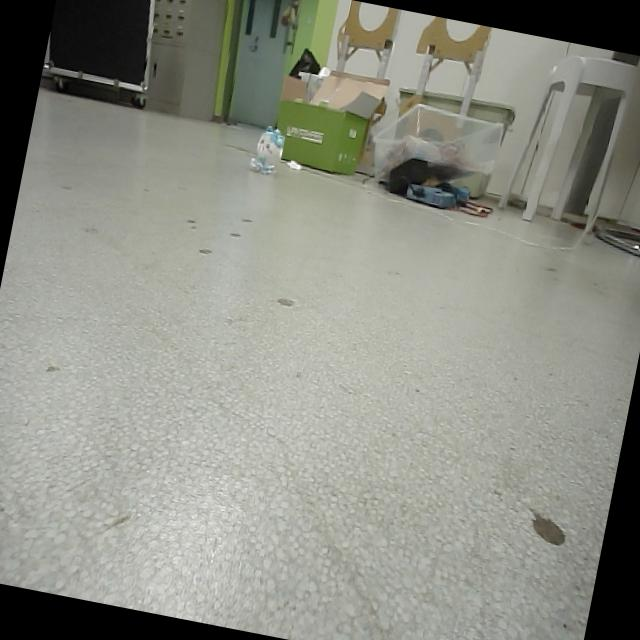xiaoba: (249, 128, 286, 178)
